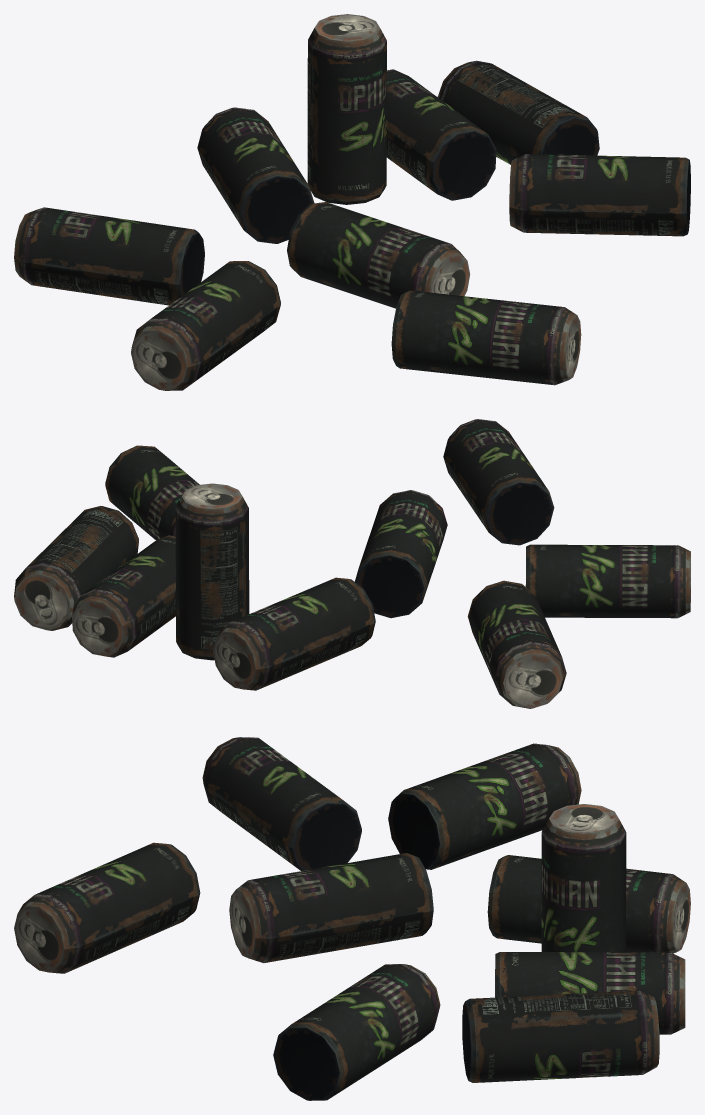
Rendered from SODATRAS.obj.
3 views of the same model, one above another, from view 1: azimuth 30°, elevation 25°; view 2: azimuth 150°, elevation 25°; view 3: azimuth 270°, elevation 25° (orthographic). The views are drawn at different scales.
Parts seen in each view (by area): view 1: SODA_1B.003; view 2: SODA_1B.003; view 3: SODA_1B.003.
Boxes of the visible parts, box(x1,y1,x2,y2) form: SODA_1B.003: box(14, 14, 690, 390); SODA_1B.003: box(14, 419, 690, 708); SODA_1B.003: box(14, 737, 690, 1100).
Bounding box in the file's own units: 17.41 × 4.53 × 16.01.
